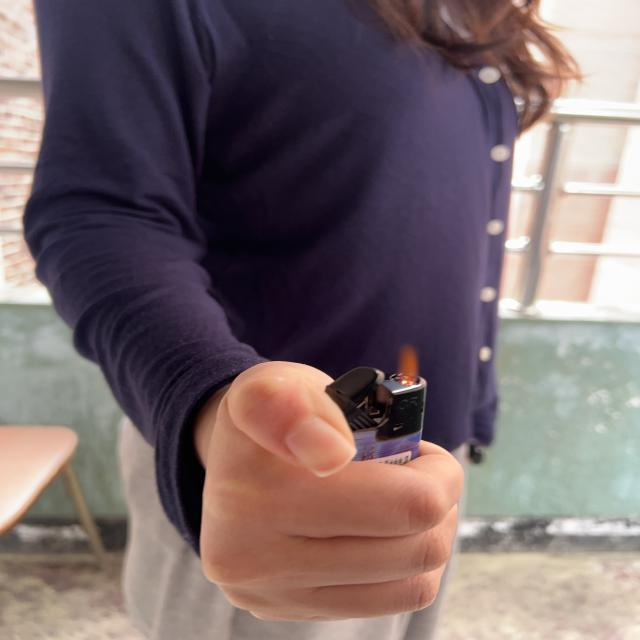fire: (394, 337, 419, 382)
